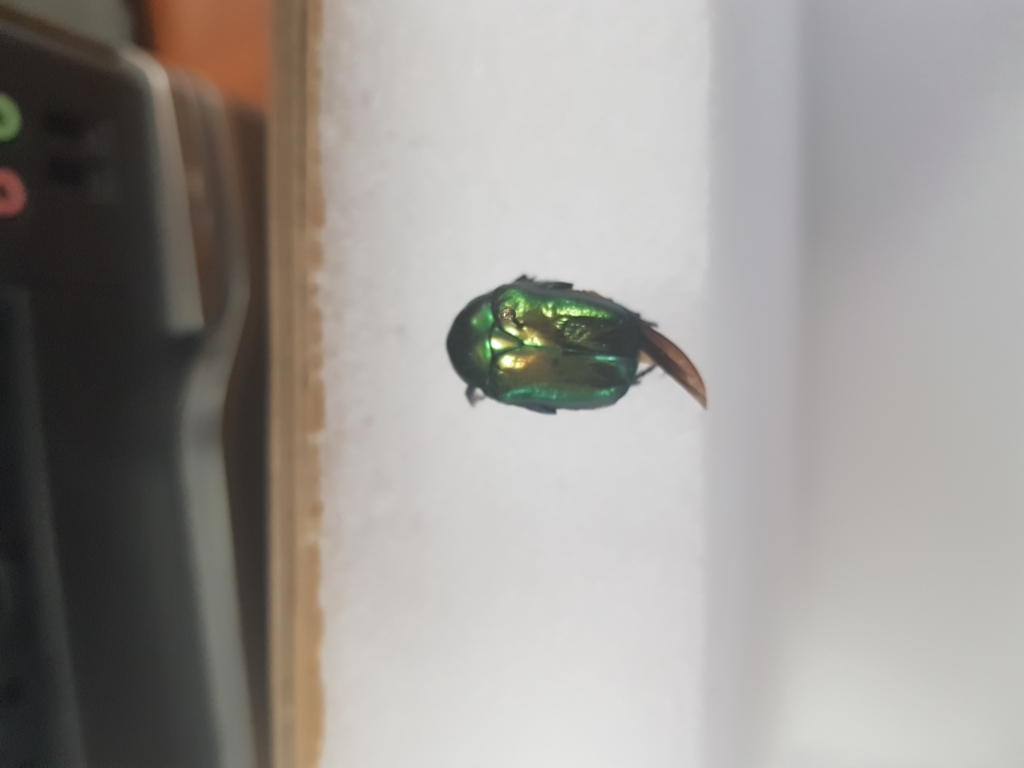Protaetia_angustata_angustata: (441, 265, 726, 428)
